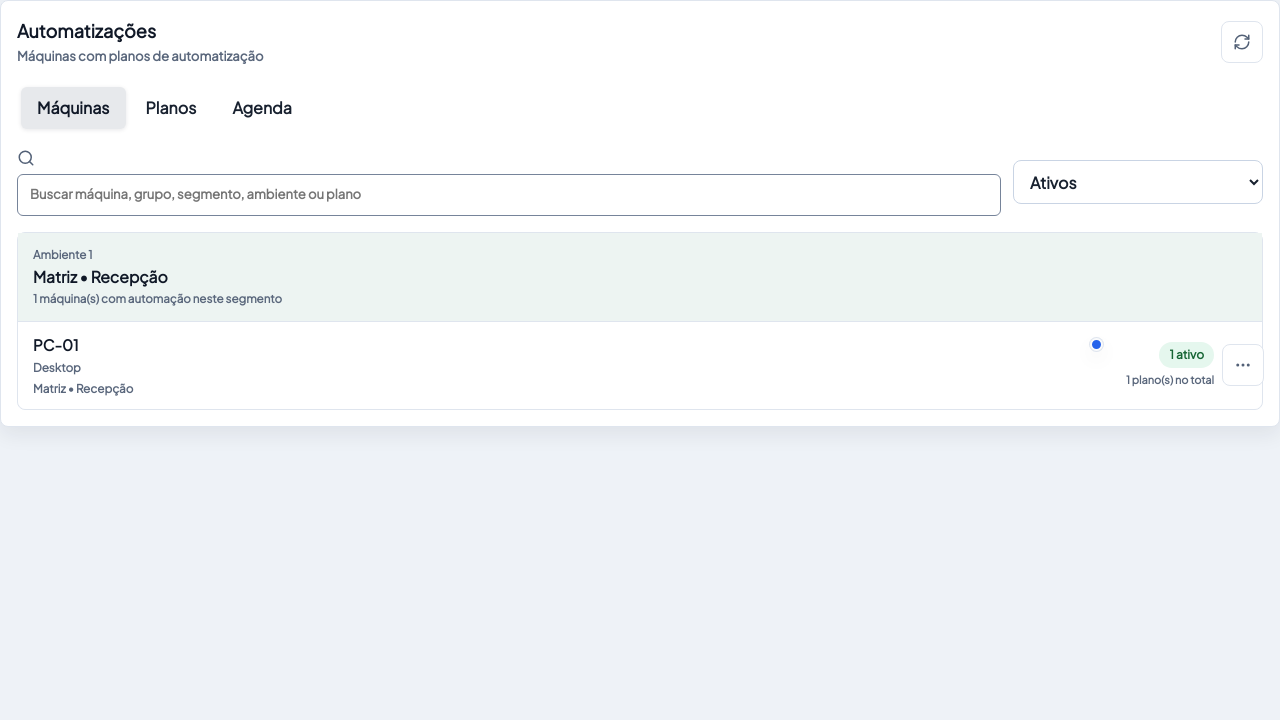
Test: AutomationManagementView - máquinas › fecha os detalhes da máquina ao remover a última associação
Click the button with aria-label "Gerenciar automações de PC-01".
click(56, 344)  # box [18,322,1118,409]
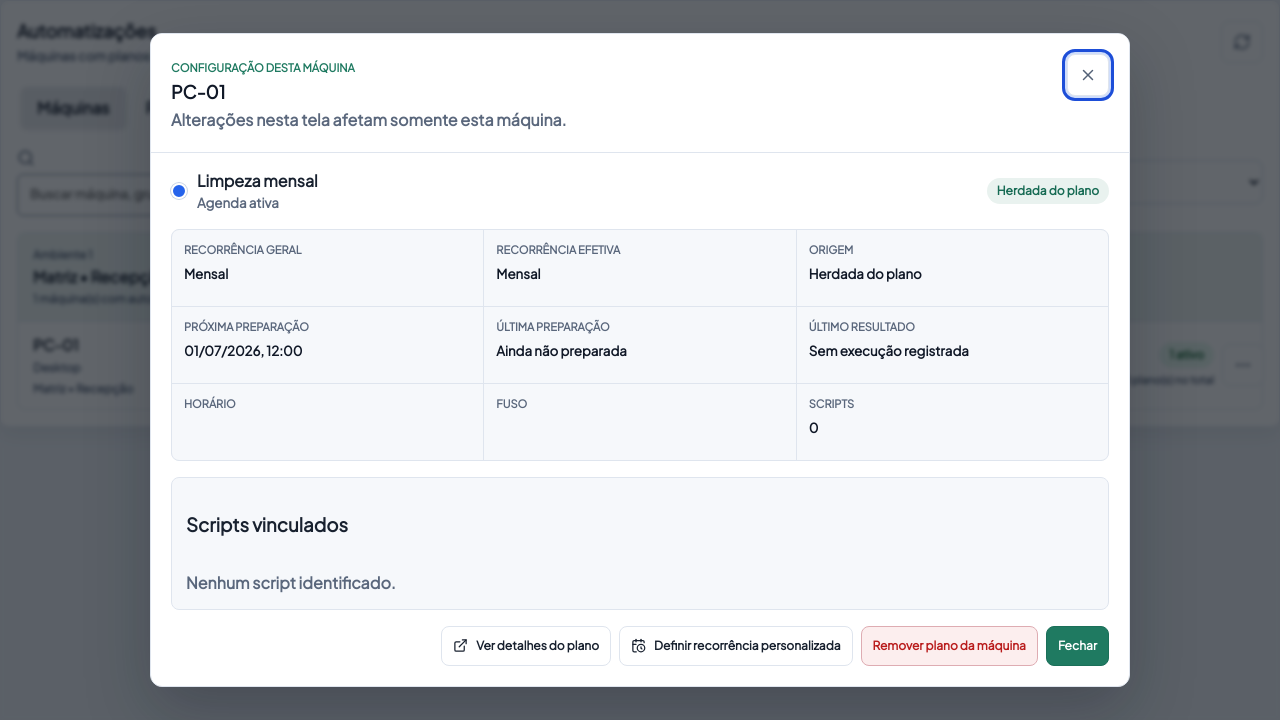
Click the button "Remover plano da máquina".
click(949, 646)  # box [860,626,1038,666]
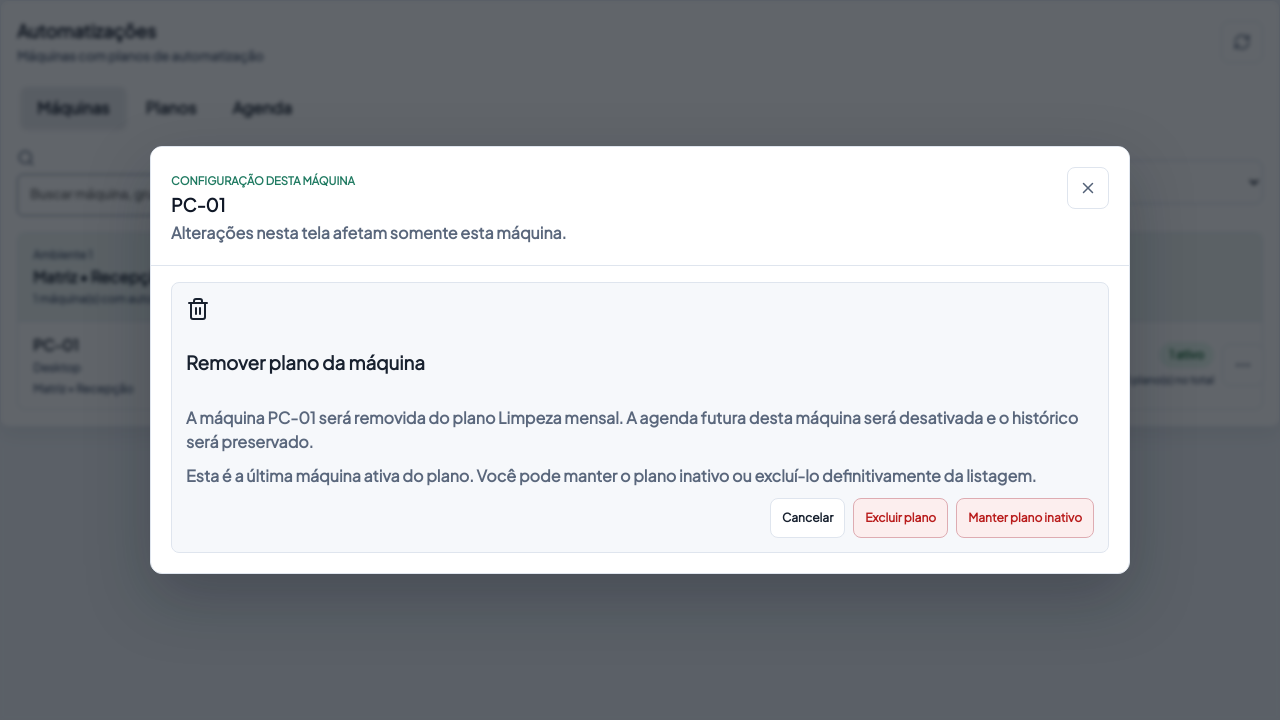
Click the button "Manter plano inativo".
click(1025, 518)  # box [956,498,1094,538]
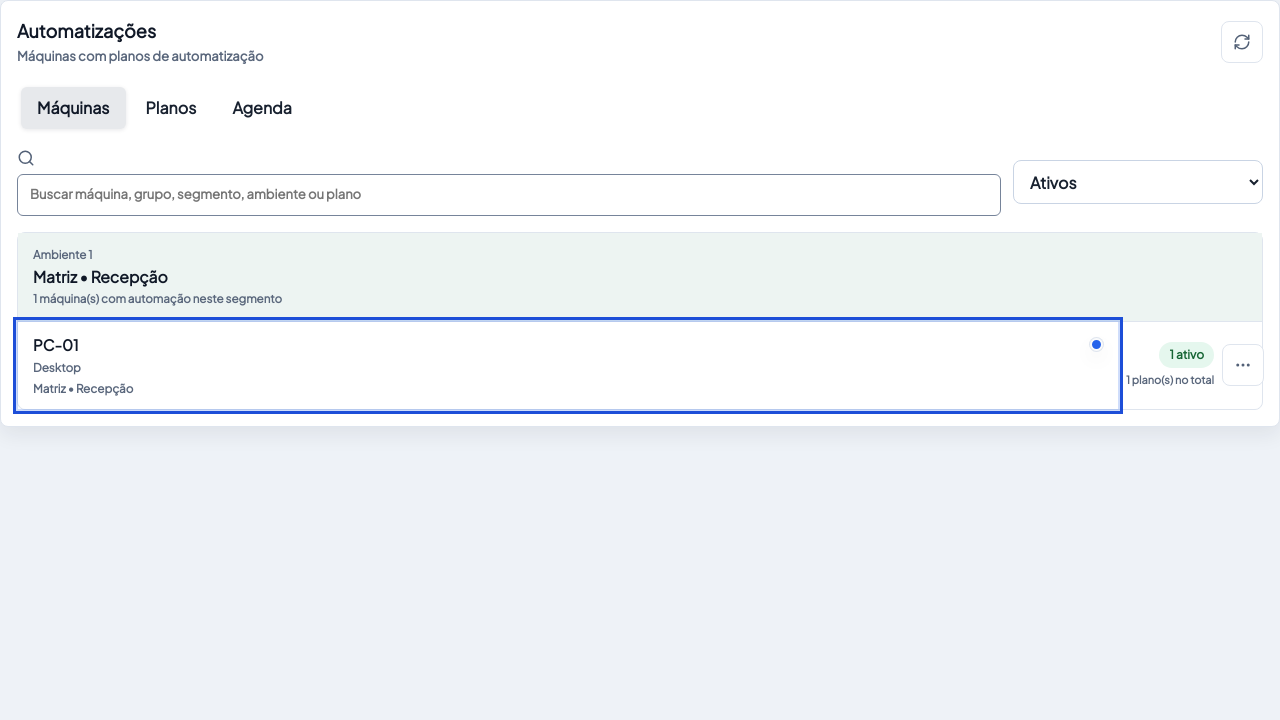
Result: the dialog is gone
